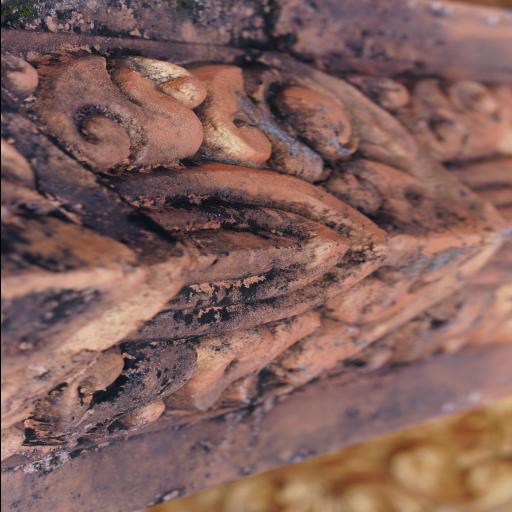la: (0, 53, 498, 462), (343, 76, 512, 398)
